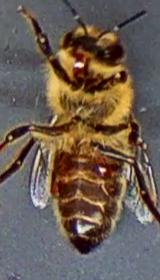varroa_mite: (86, 152, 124, 184)
